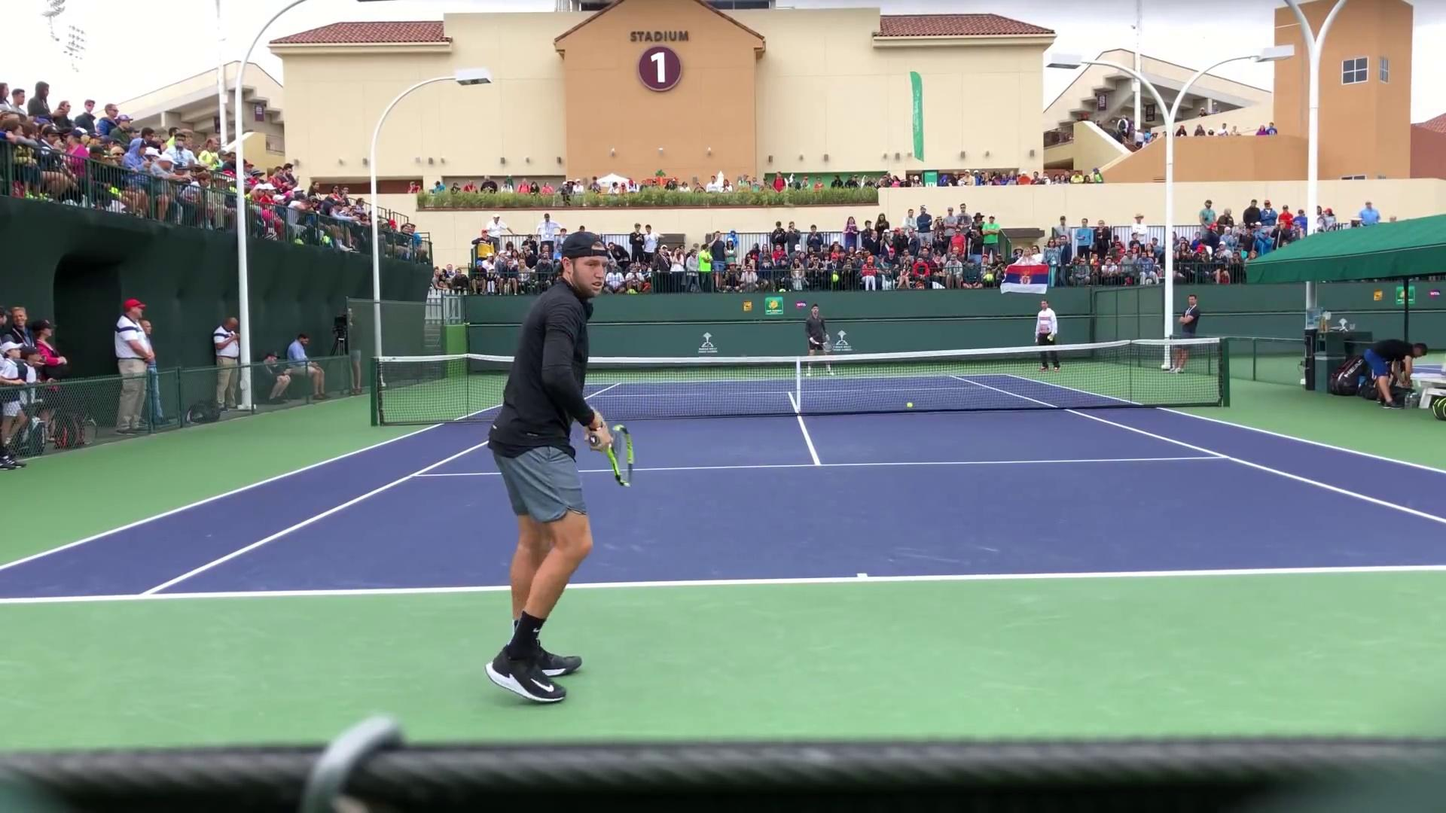ball: (907, 400, 912, 406)
